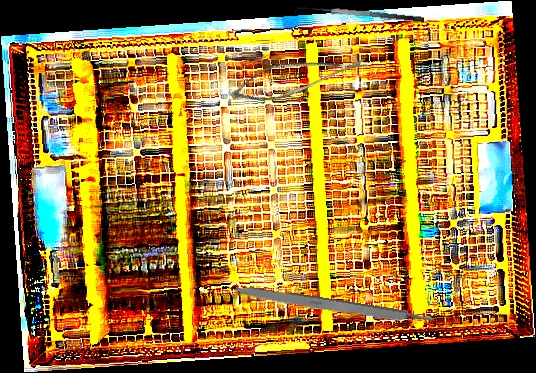Micro Scissor: (226, 27, 371, 124)
Scalpel Handle: (227, 282, 437, 330)
Spatula Surgical: (294, 0, 425, 34)
